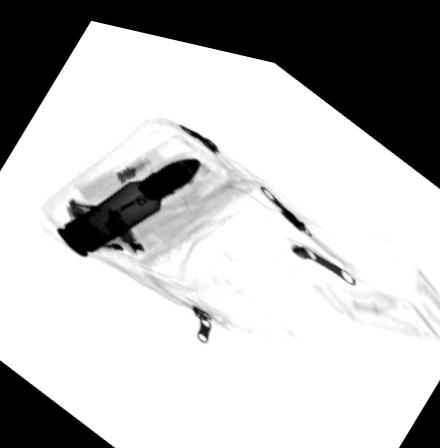Bullet: (54, 147, 203, 254)
